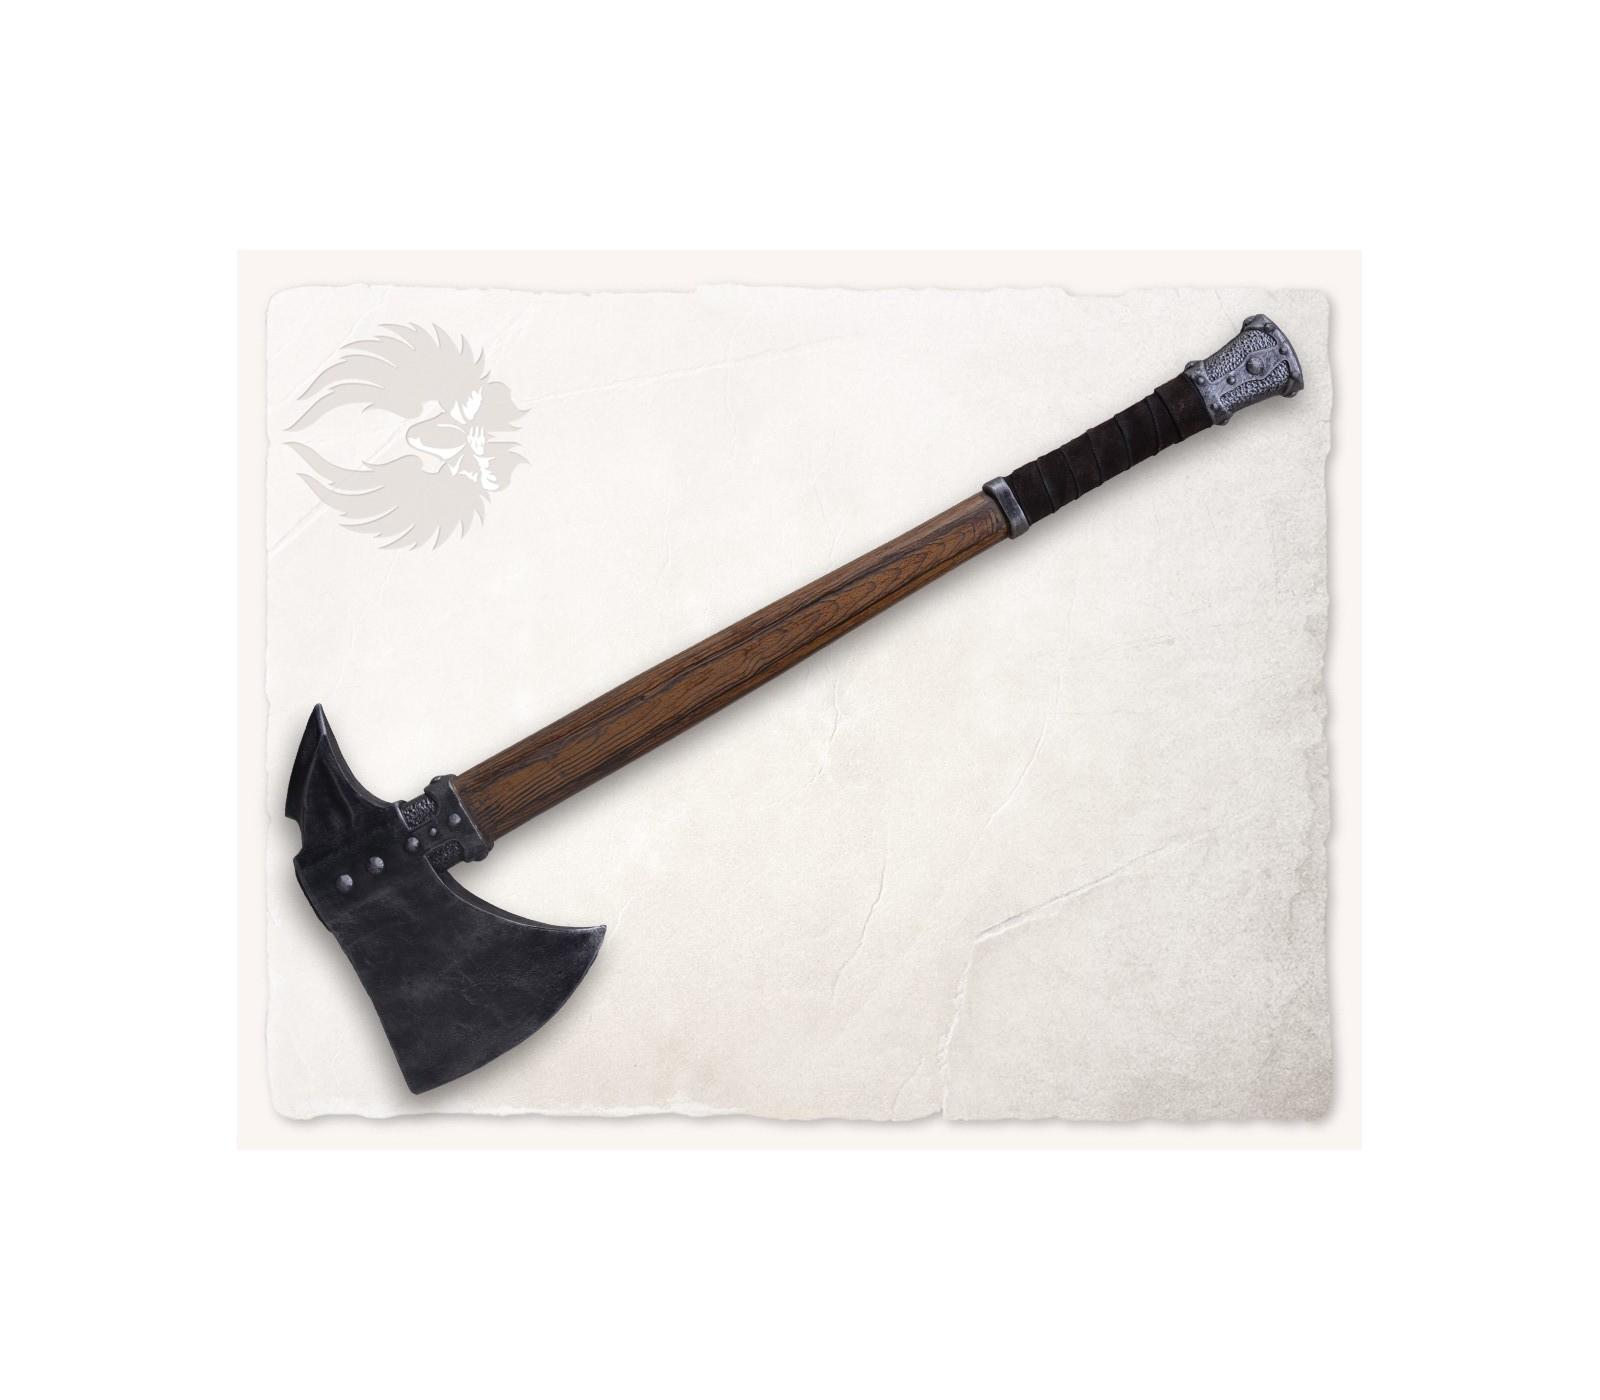machado: (286, 314, 1303, 1093)
